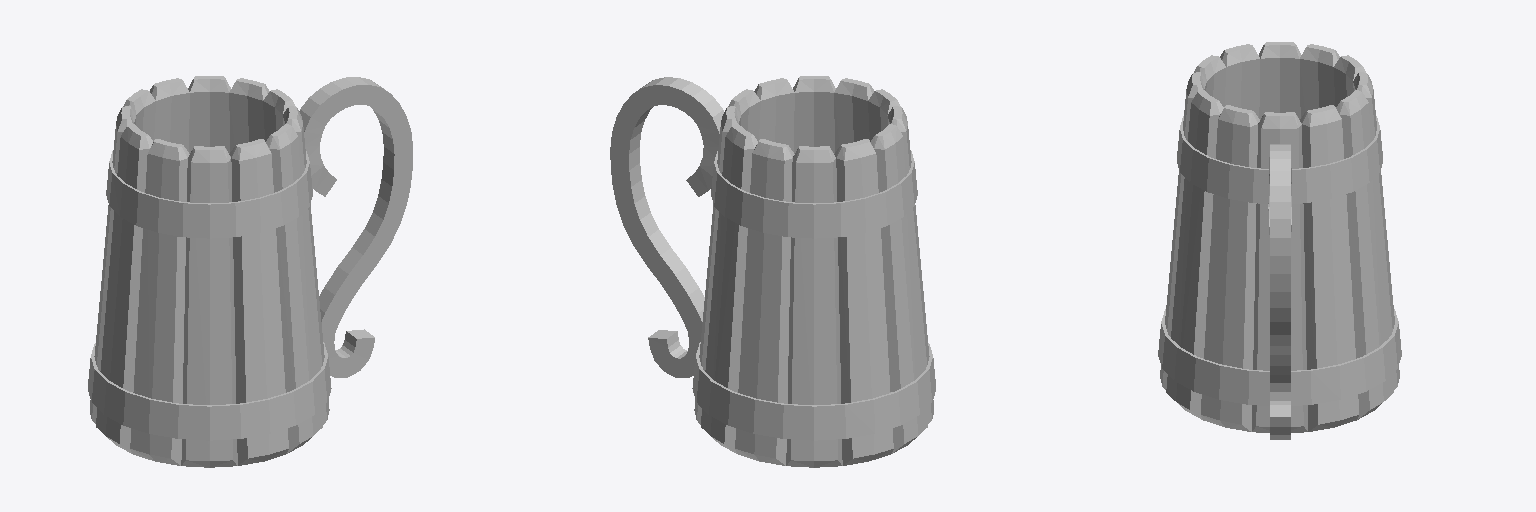
The model's file is mug.obj.
The picture shows the model from 3 angles: view 1: azimuth 30°, elevation 25°; view 2: azimuth 150°, elevation 25°; view 3: azimuth 270°, elevation 25°; orthographic projection.
Parts seen in each view (by area): view 1: Mug_01_Plane.001; view 2: Mug_01_Plane.001; view 3: Mug_01_Plane.001.
Part boxes in pixels (x1,y1,x2,y2): Mug_01_Plane.001: (88,76,412,467); Mug_01_Plane.001: (610,76,935,467); Mug_01_Plane.001: (1158,42,1401,439).
Bounding box in the file's own units: 3.05 × 2.96 × 2.12.